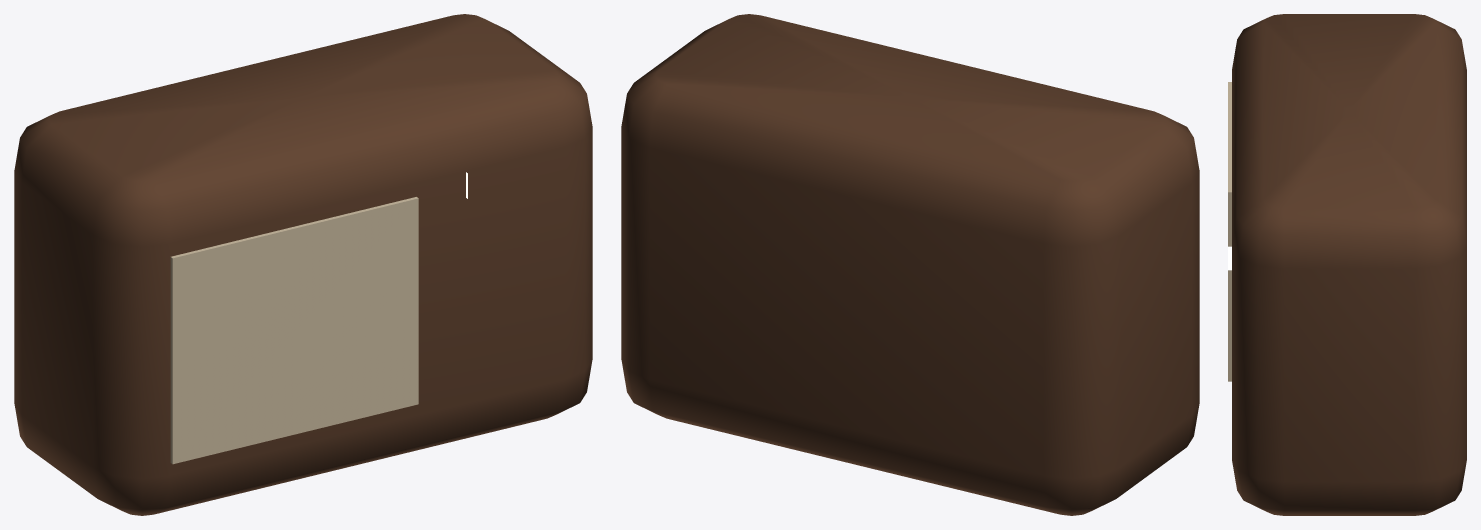
File: radio_old.glb
The picture shows the model from 3 angles, left to right: view 1: azimuth 30°, elevation 25°; view 2: azimuth 150°, elevation 25°; view 3: azimuth 270°, elevation 25°; orthographic projection. The views are drawn at different scales.
Visible parts, largest first — view 1: radio_old; view 2: radio_old; view 3: radio_old.
Part boxes in pixels (<box>): radio_old: <box>14,14,592,515</box>; radio_old: <box>621,14,1199,515</box>; radio_old: <box>1228,14,1466,515</box>.
Bounding box in the file's own units: 0.4 × 0.26 × 0.183.
